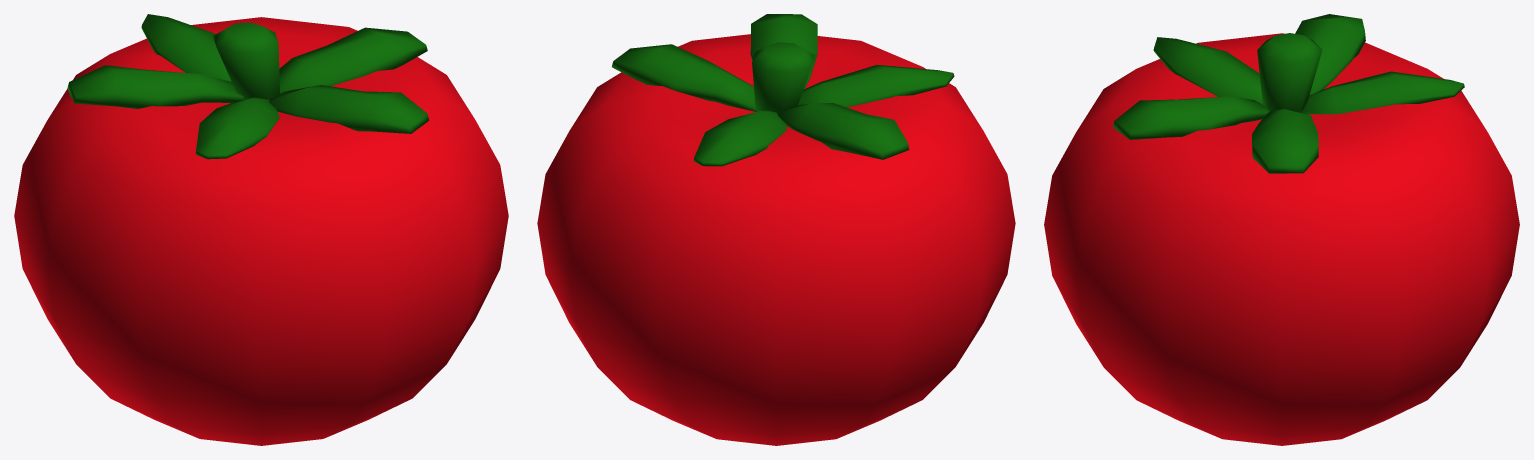
Rendered from Tomato.fbx.
3 renders of one model, left to right at view 1: azimuth 30°, elevation 25°; view 2: azimuth 150°, elevation 25°; view 3: azimuth 270°, elevation 25°, orthographic. The views are drawn at different scales.
Visible parts, largest first — view 1: Tomato; view 2: Tomato; view 3: Tomato.
Part boxes in pixels (x1=…): Tomato: x1=14, y1=14, x2=508, y2=445; Tomato: x1=537, y1=14, x2=1015, y2=445; Tomato: x1=1044, y1=14, x2=1519, y2=445.
Bounding box in the file's own units: 42.81 × 37.34 × 42.81.
